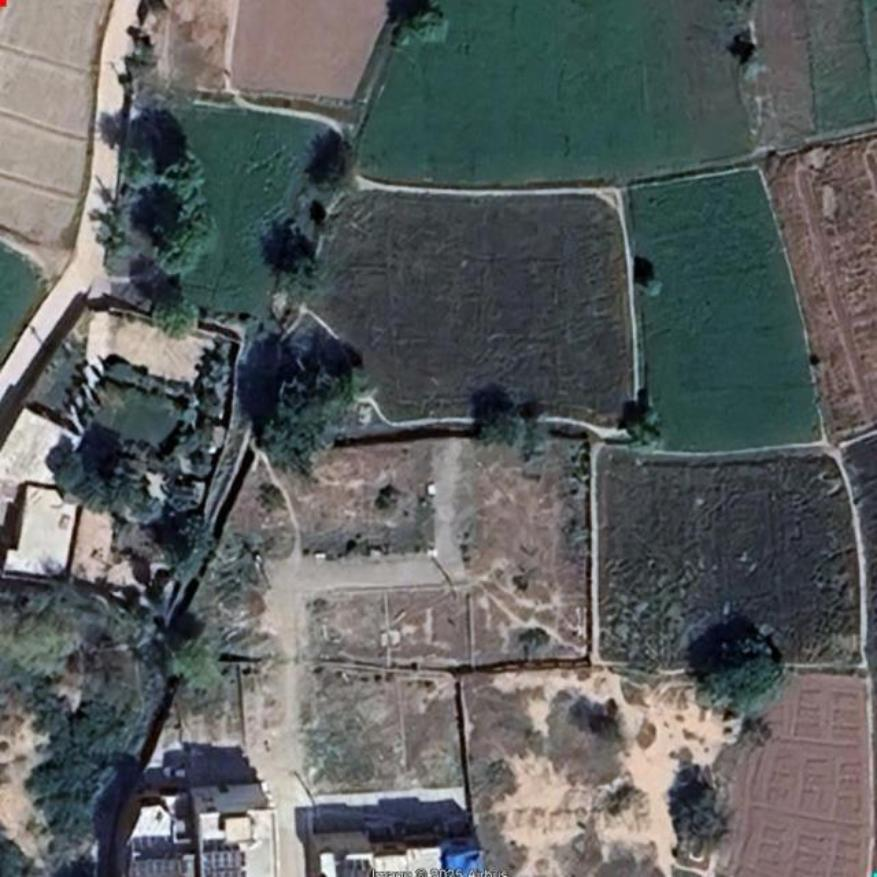Solarpanel: (201, 847, 244, 876), (133, 860, 187, 876)
